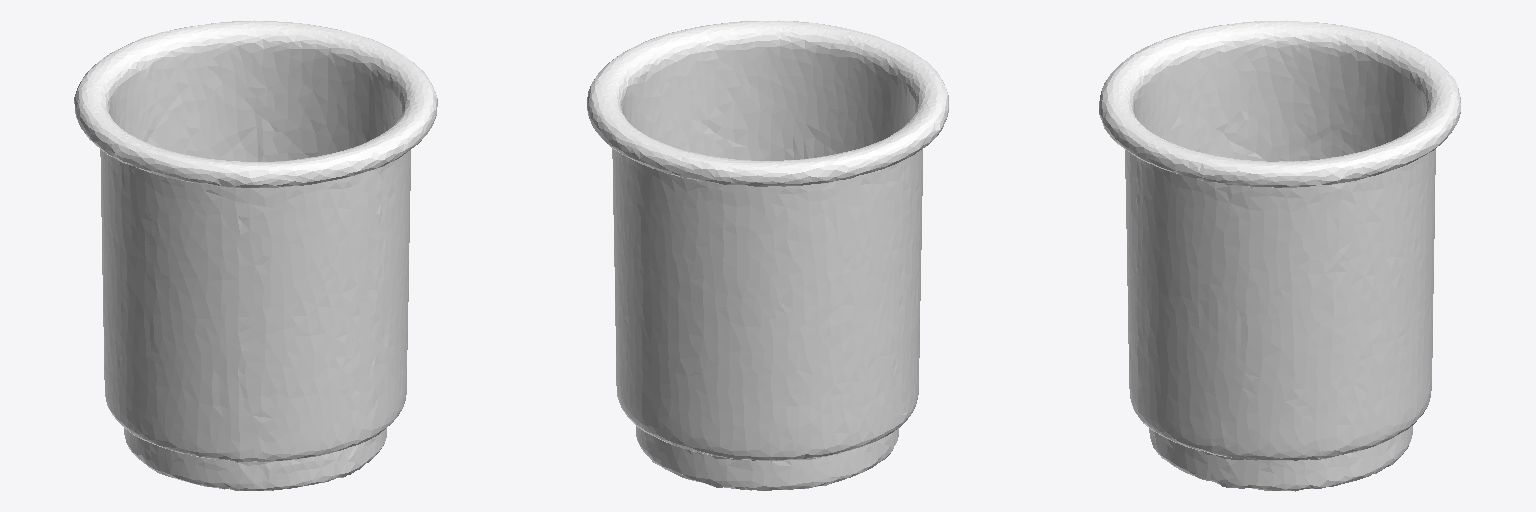
robot.urdf — b_cups:
<robot name="b_cups">
    <link name="base_link">
        <visual>
            <origin xyz="0.0 0.0 -0.0" rpy="0.0 0.0 0.0" />
            <geometry>
                <mesh filename="b_cups/textured.obj" scale="1 1 1" />
            </geometry>
            <material name="texture">
                <color rgba="1.0 1.0 1.0 1.0" />
            </material>
        </visual>
        <collision>
            <origin xyz="0.0 0.0 -0.0" rpy="0.0 0.0 0.0" />
            <geometry>
                <mesh filename="b_cups/textured_coacd_0.stl" scale="1 1 1" />
            </geometry>
        </collision>
        <collision>
            <origin xyz="0.0 0.0 -0.0" rpy="0.0 0.0 0.0" />
            <geometry>
                <mesh filename="b_cups/textured_coacd_1.stl" scale="1 1 1" />
            </geometry>
        </collision>
        <collision>
            <origin xyz="0.0 0.0 -0.0" rpy="0.0 0.0 0.0" />
            <geometry>
                <mesh filename="b_cups/textured_coacd_2.stl" scale="1 1 1" />
            </geometry>
        </collision>
        <collision>
            <origin xyz="0.0 0.0 -0.0" rpy="0.0 0.0 0.0" />
            <geometry>
                <mesh filename="b_cups/textured_coacd_3.stl" scale="1 1 1" />
            </geometry>
        </collision>
        <collision>
            <origin xyz="0.0 0.0 -0.0" rpy="0.0 0.0 0.0" />
            <geometry>
                <mesh filename="b_cups/textured_coacd_4.stl" scale="1 1 1" />
            </geometry>
        </collision>
        <inertial>
            <mass value="0.014" />
            <inertia ixx="1e-3" ixy="0.0" ixz="0.0" iyy="1e-3" iyz="0.0" izz="1e-3" />
        </inertial>
    </link>
</robot>

--- Facts derived from the render (not from the file) ---
3 views of the same robot in one strip: view 1: azimuth 30°, elevation 25°; view 2: azimuth 150°, elevation 25°; view 3: azimuth 270°, elevation 25° (orthographic).
Robot: b_cups — 1 links, 0 joints (none); root link base_link; default pose: all joints at 0.
Links seen in each view (by area): view 1: base_link; view 2: base_link; view 3: base_link.
Link boxes in pixels (left/top/right/bottom): base_link: left=74, top=20, right=437, bottom=490; base_link: left=587, top=20, right=948, bottom=490; base_link: left=1099, top=20, right=1460, bottom=491.
Size in the robot's own frame: 0.0605 by 0.0606 by 0.0638 metres.
1 mesh visuals loaded from 1 distinct referenced files (1 OBJ).